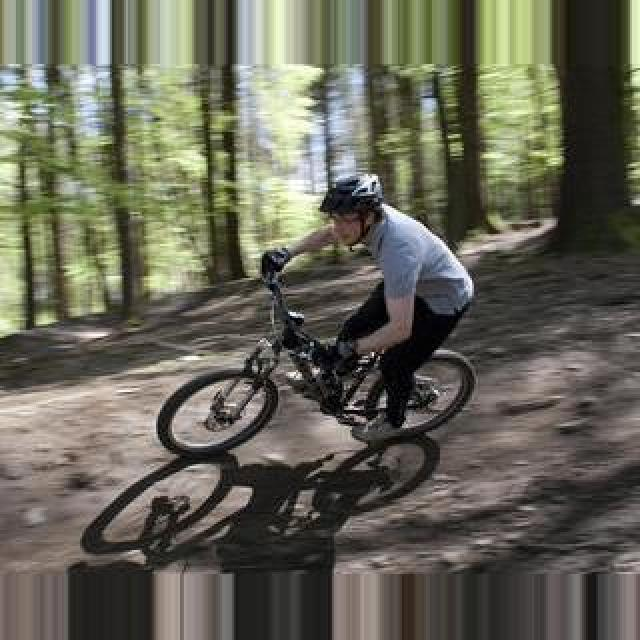MC-Bike: (262, 174, 474, 434)
Person: (156, 255, 480, 471)
